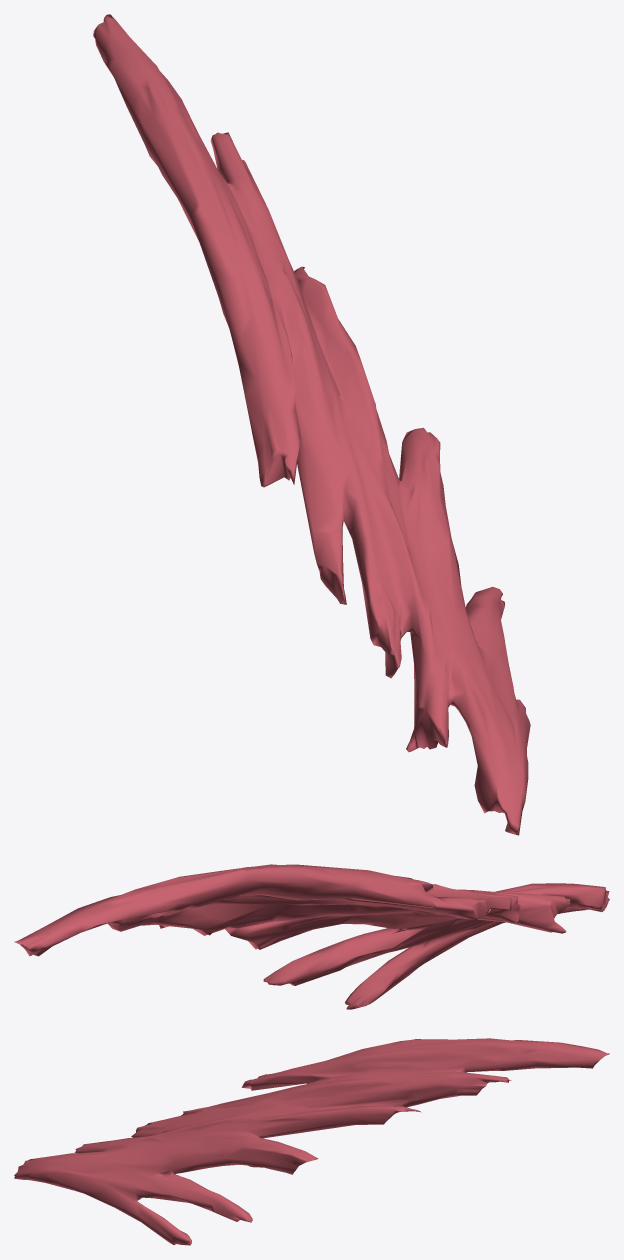
3 views of the same model, one above another, from view 1: azimuth 30°, elevation 25°; view 2: azimuth 150°, elevation 25°; view 3: azimuth 270°, elevation 25° (orthographic). The views are drawn at different scales.
Visible parts, largest first — view 1: 左侧颈半棘肌; view 2: 左侧颈半棘肌; view 3: 左侧颈半棘肌.
Boxes of the visible parts, x1=… form: 左侧颈半棘肌: x1=93, y1=14, x2=530, y2=835; 左侧颈半棘肌: x1=14, y1=864, x2=609, y2=1009; 左侧颈半棘肌: x1=14, y1=1038, x2=609, y2=1245.
Size of the model in its own units: 0.05 by 0.0777 by 0.2099.
